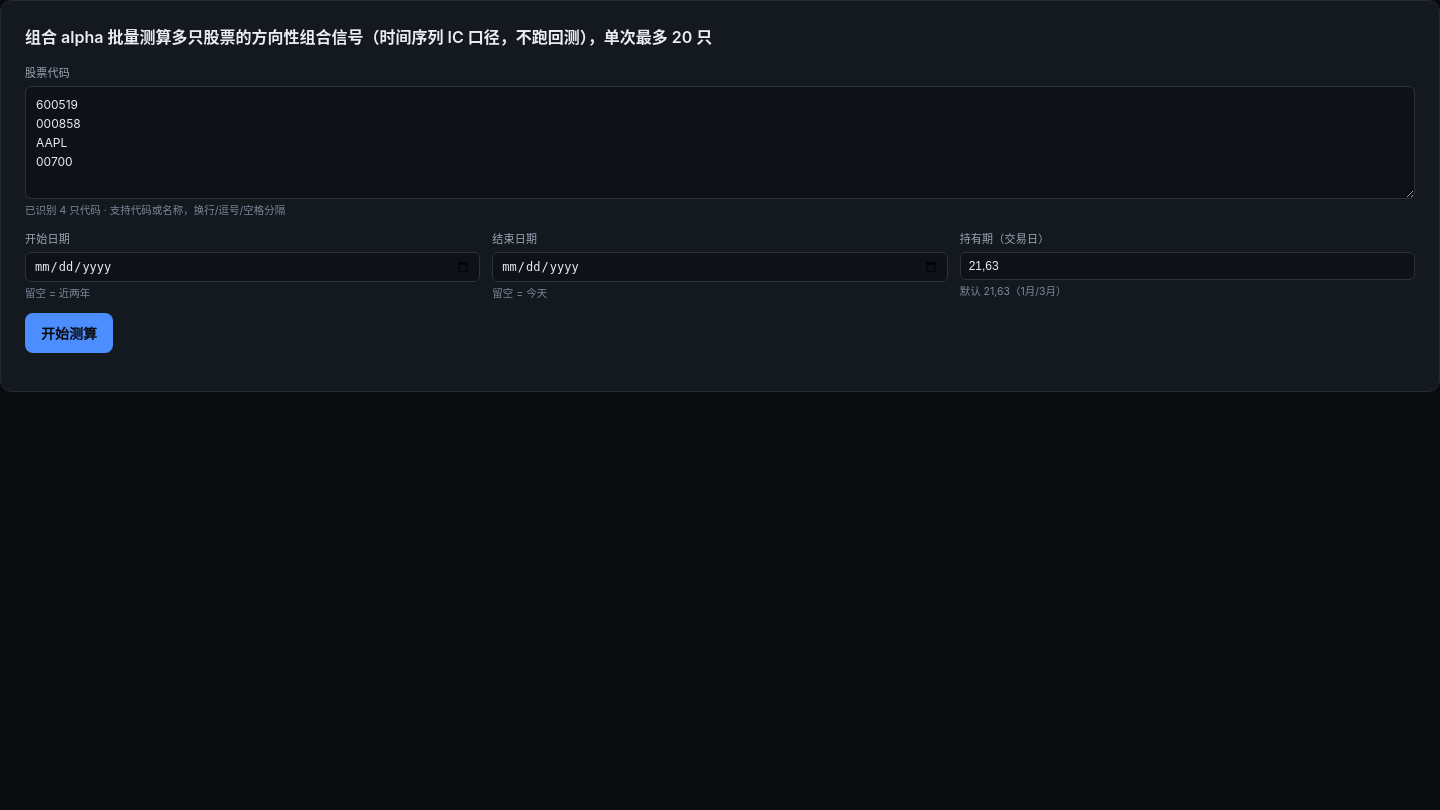
Test: CompositeBatchPanel —— 结果渲染 › 成功渲染：汇总、方向标签与红涨绿跌、主窗口汇总列与基准可用性
The image size is (1440, 810).
Click the button "开始测算" at (69,333), box left=25, top=313, right=113, bottom=353
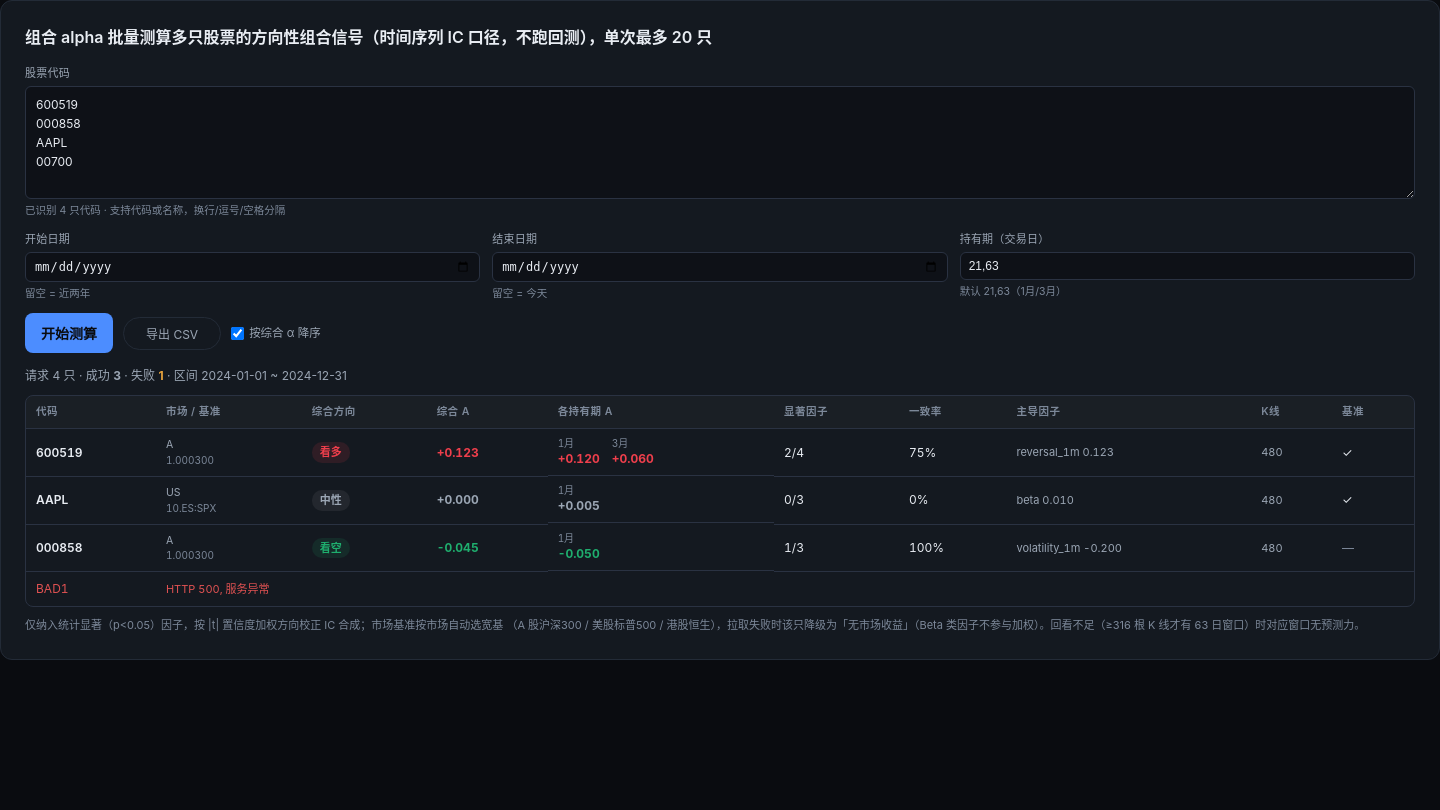
Result: the table is shown at left=26, top=396, right=1414, bottom=606
Result: the element with class "batch-summary" shows "请求 4 只" at left=25, top=368, right=347, bottom=383
Result: the element with class "batch-summary" shows "成功 3" at left=25, top=368, right=347, bottom=383
